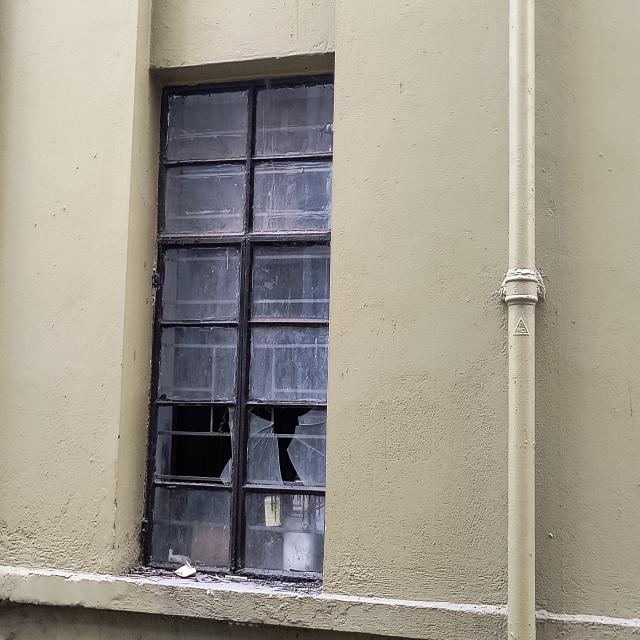Broken window pane: (138, 49, 331, 593)
